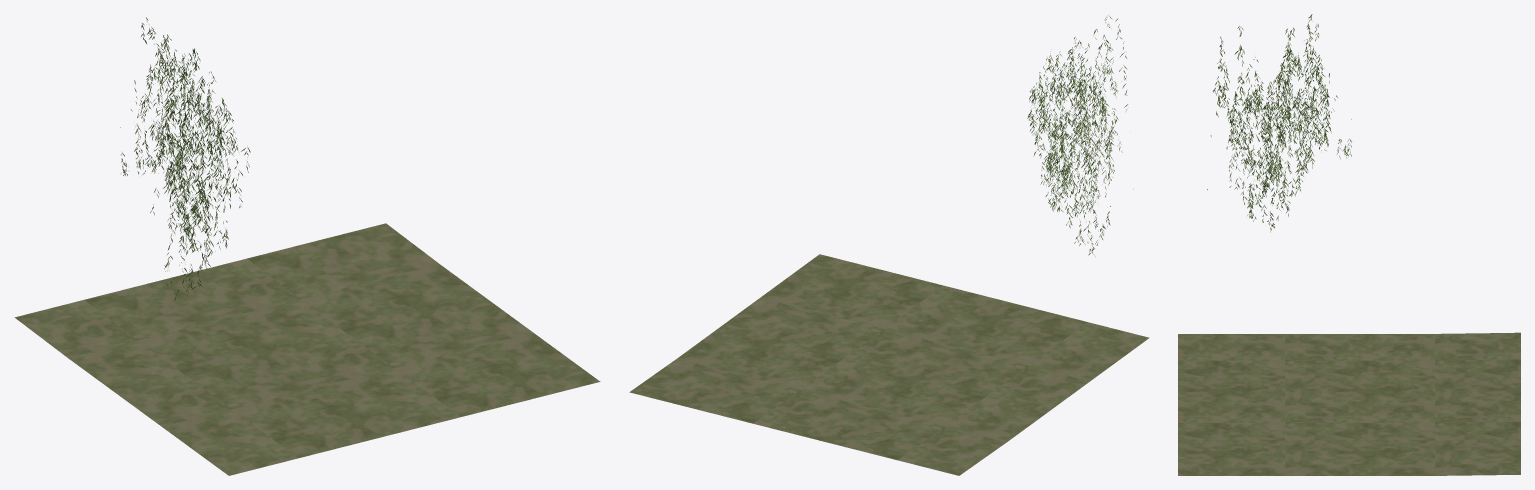
3 renders of one model, left to right at view 1: azimuth 30°, elevation 25°; view 2: azimuth 150°, elevation 25°; view 3: azimuth 270°, elevation 25°, orthographic. The views are drawn at different scales.
Size of the model in its own units: 16 by 16.47 by 16.
5 materials, 5 textured.
